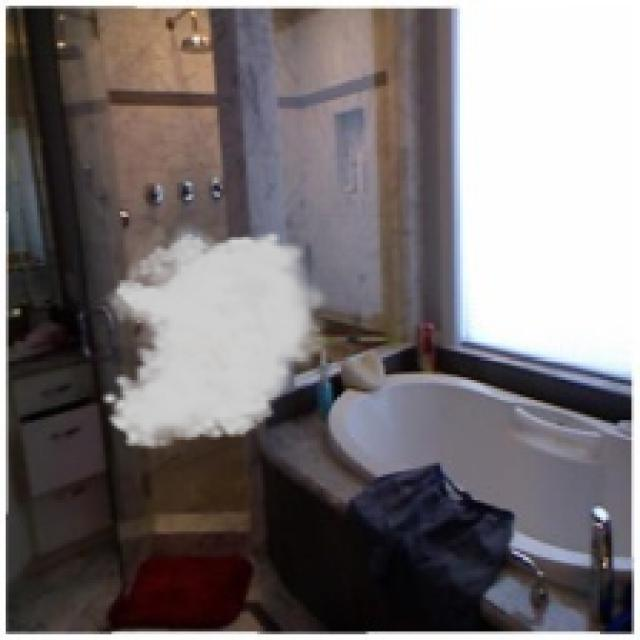smoke: (100, 217, 337, 452)
